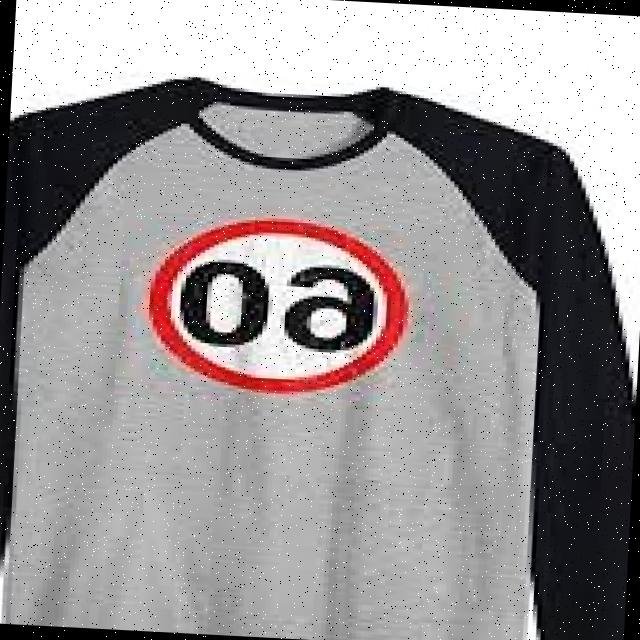speed_limit_60: (134, 210, 424, 408)
